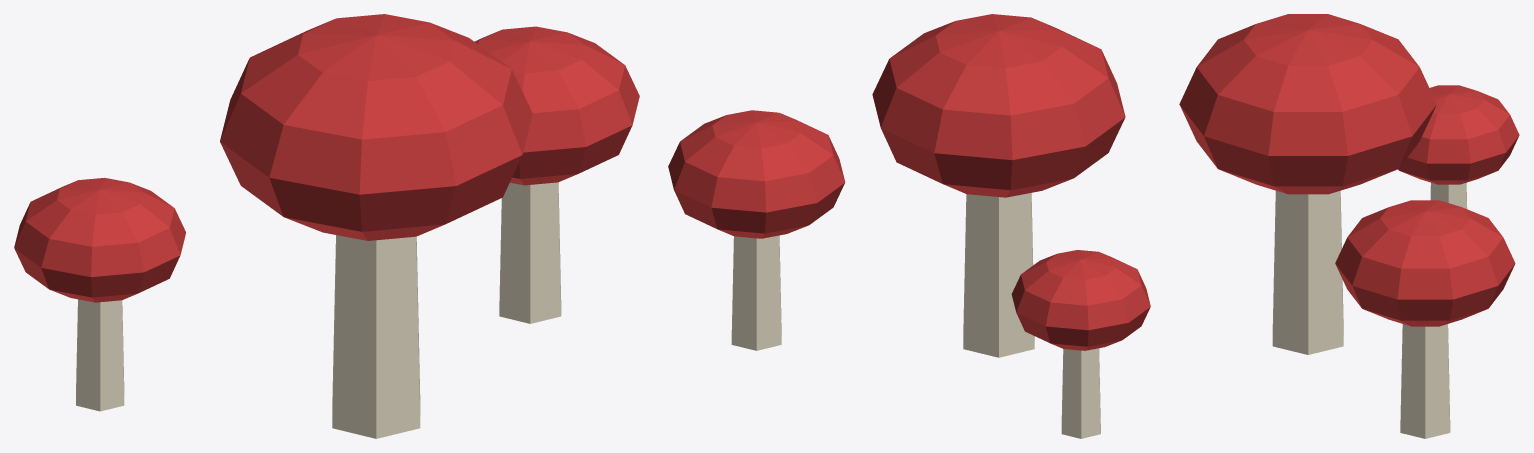
File: prop_mushroom.glb
3 views of the same model, side by side, from view 1: azimuth 30°, elevation 25°; view 2: azimuth 150°, elevation 25°; view 3: azimuth 270°, elevation 25° (orthographic). The views are drawn at different scales.
Parts seen in each view (by area): view 1: cap, stem, cap.002, cap.001, stem.001, stem.002; view 2: cap, cap.001, cap.002, stem, stem.001, stem.002; view 3: cap, cap.001, stem, cap.002, stem.001, stem.002.
Part boxes in pixels (<box>): cap: <box>220,14,532,240</box>; stem: <box>332,235,420,438</box>; cap.002: <box>14,177,185,302</box>; cap.001: <box>474,26,639,185</box>; stem.001: <box>499,182,561,323</box>; stem.002: <box>76,299,124,411</box>; cap: <box>872,14,1125,197</box>; cap.001: <box>668,110,845,238</box>; cap.002: <box>1011,250,1150,350</box>; stem: <box>963,193,1034,357</box>; stem.001: <box>731,235,781,350</box>; stem.002: <box>1061,348,1100,438</box>; cap: <box>1179,14,1436,194</box>; cap.001: <box>1335,200,1515,326</box>; stem: <box>1272,190,1343,354</box>; cap.002: <box>1398,85,1519,184</box>; stem.001: <box>1400,324,1450,438</box>; stem.002: <box>1430,182,1467,208</box>.
Size of the model in its own units: 0.4608 by 0.29 by 0.2905.
